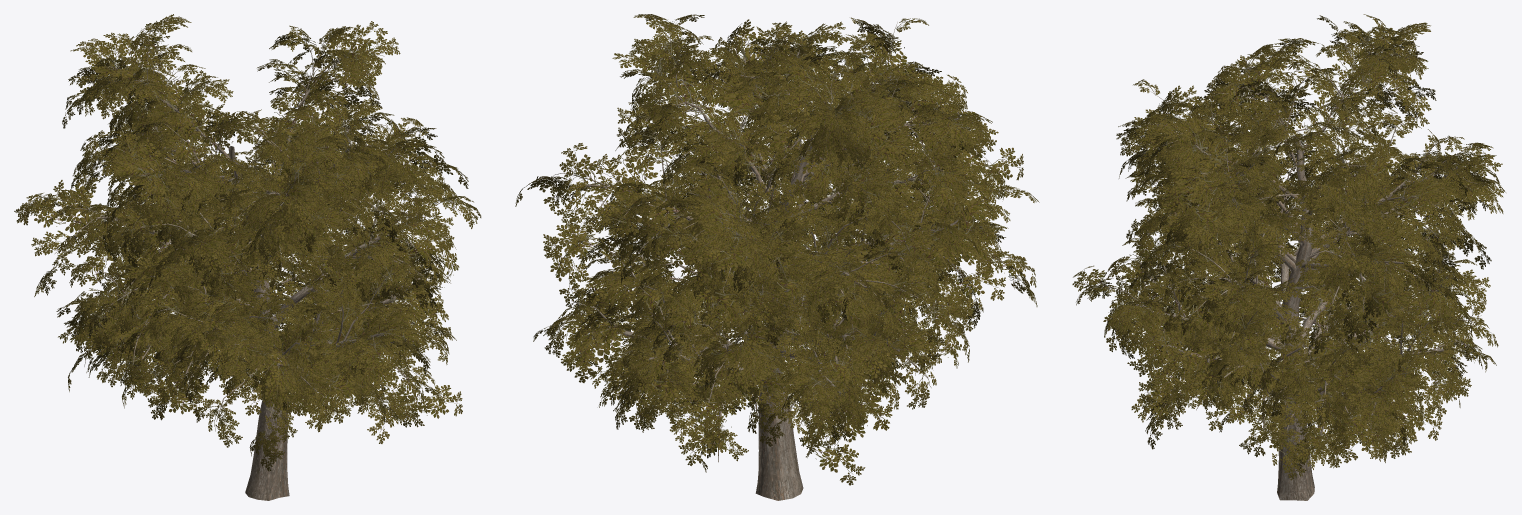
Rendered from SM_Tree1.fbx.
3 renders of one model, left to right at view 1: azimuth 30°, elevation 25°; view 2: azimuth 150°, elevation 25°; view 3: azimuth 270°, elevation 25°, orthographic. The views are drawn at different scales.
Visible parts, largest first — view 1: SM_Tree1_LOD0; view 2: SM_Tree1_LOD0; view 3: SM_Tree1_LOD0.
Boxes of the visible parts, bbox=[...] form: SM_Tree1_LOD0: bbox=[14, 14, 481, 500]; SM_Tree1_LOD0: bbox=[515, 14, 1039, 500]; SM_Tree1_LOD0: bbox=[1072, 14, 1505, 500].
Size of the model in its own units: 999 by 1007 by 1123.
